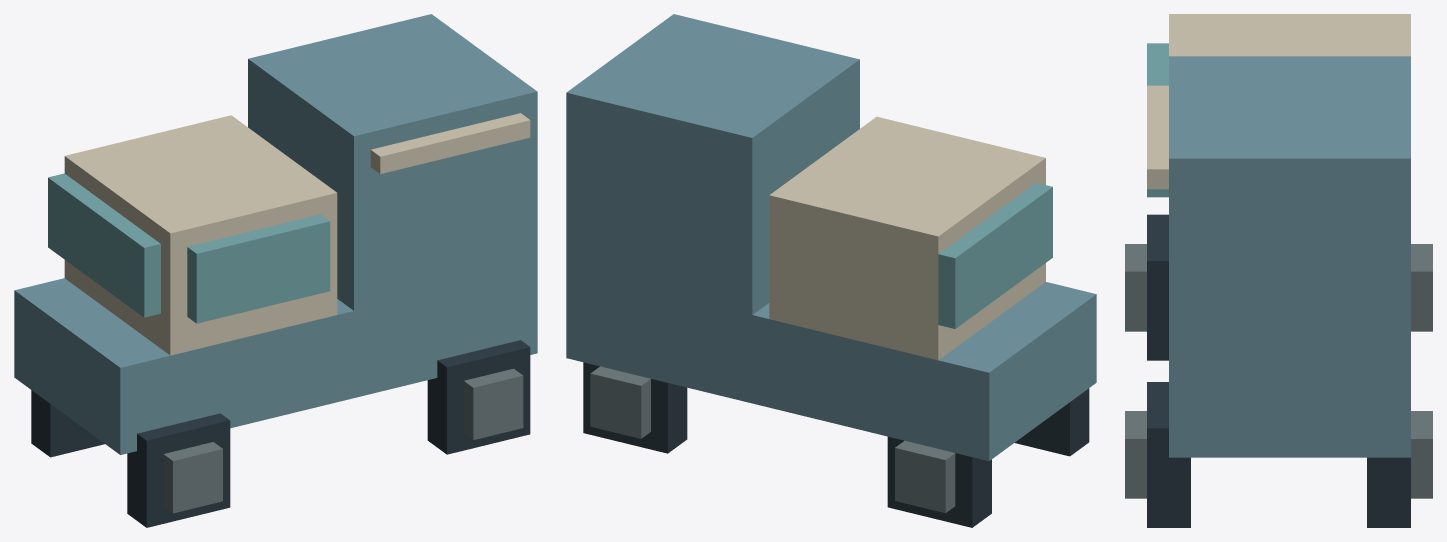
The model's file is travel-17.glb.
The picture shows the model from 3 angles, left to right: view 1: azimuth 30°, elevation 25°; view 2: azimuth 150°, elevation 25°; view 3: azimuth 270°, elevation 25°; orthographic projection. The views are drawn at different scales.
Visible parts, largest first — view 1: Road trip van; view 2: Road trip van; view 3: Road trip van.
Part boxes in pixels (bbox=[...]): Road trip van: bbox=[14, 14, 537, 527]; Road trip van: bbox=[566, 14, 1096, 527]; Road trip van: bbox=[1125, 14, 1432, 527].
Size of the model in its own units: 2 by 1.52 by 1.12.
